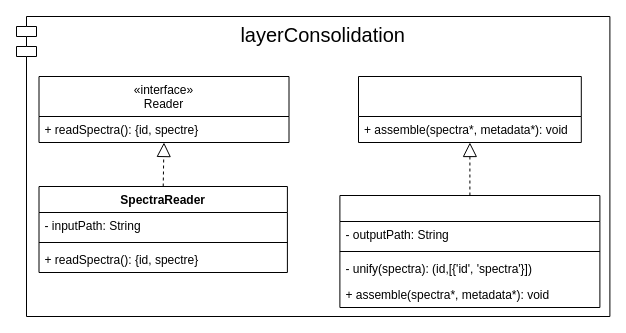
Image size: 626x333. Some labels were removed from this diagram. The box of each missing label's shape, as (x1, y1, x2, y2) in pixels:
SpectraAssembler: (339, 194, 600, 308)
«interface» Assembler: (358, 76, 581, 142)
